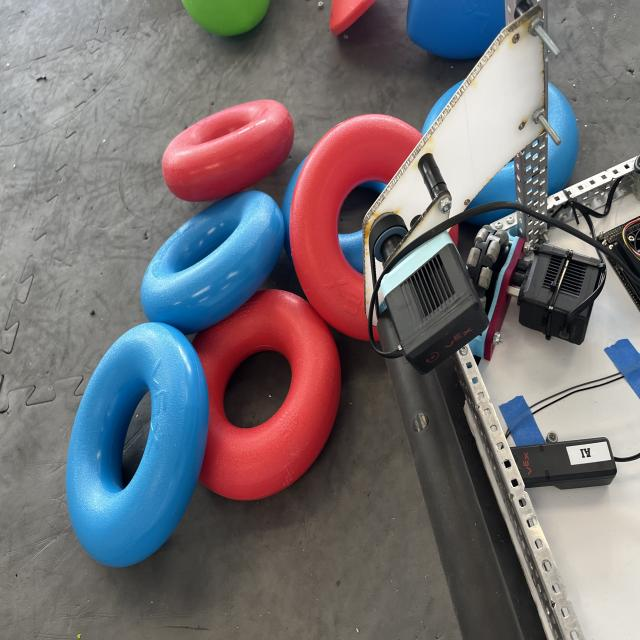Blue-Ring: (66, 323, 209, 567), (424, 76, 578, 216), (141, 190, 284, 335)
Red-Ring: (194, 290, 341, 500), (290, 113, 421, 340), (162, 100, 294, 202), (309, 388, 310, 392)
